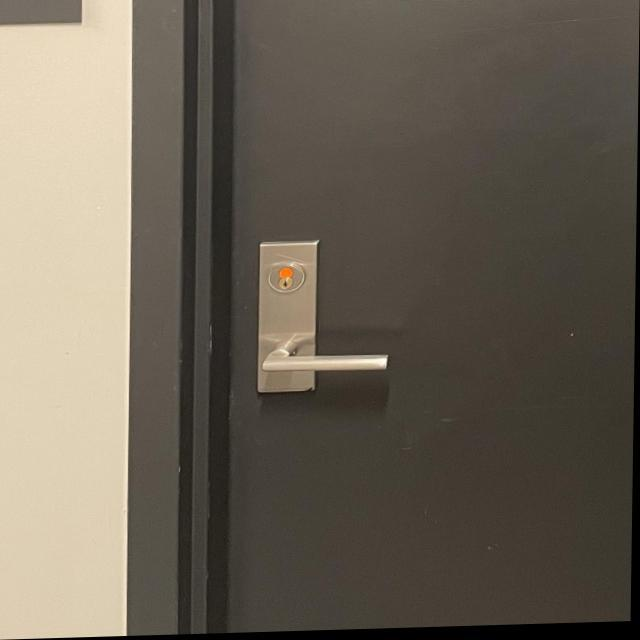door_handle: (244, 331, 407, 402)
